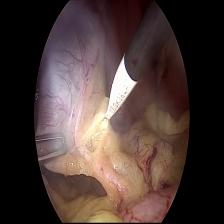Grasper: (33, 128, 70, 166)
Hook: (103, 52, 139, 129)
